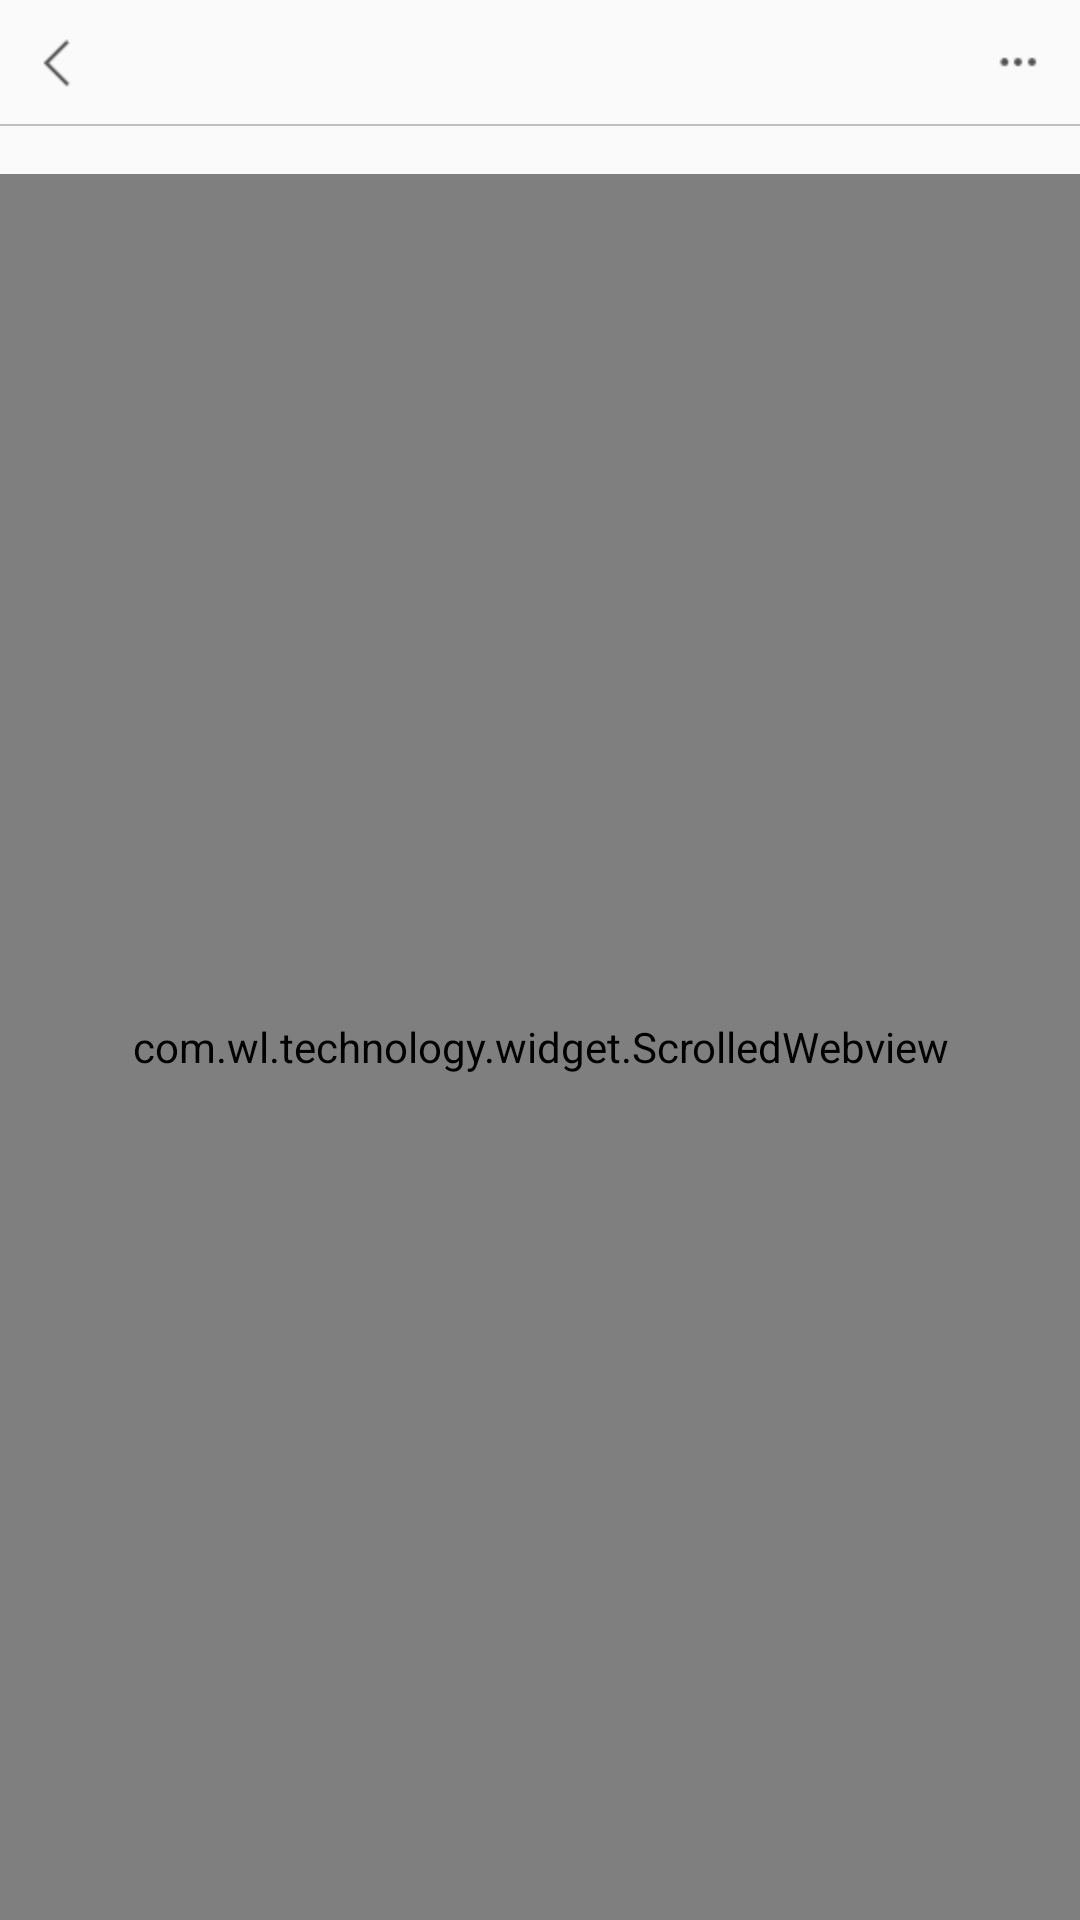

Screen size 1080px x 1920px. Icon name, then its box in pixels as bbox=[x1, y1, x2, y2]:
back: bbox=[43, 40, 70, 87]
omit: bbox=[1000, 57, 1037, 67]
